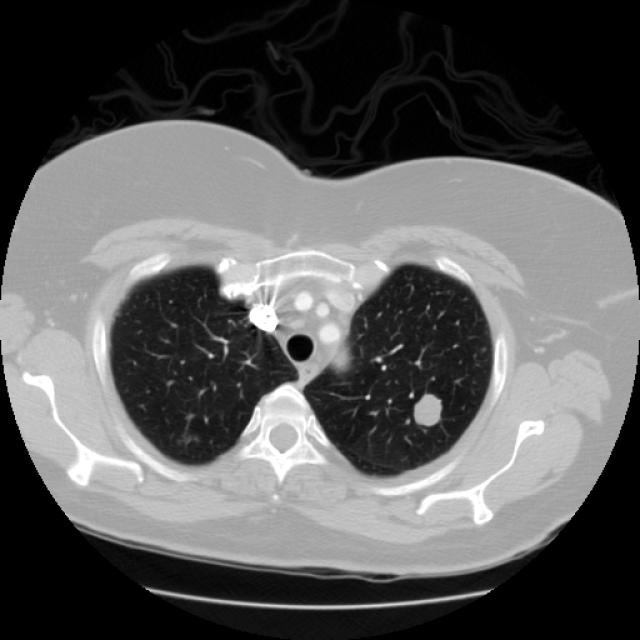nodule: (390, 373, 462, 445)
